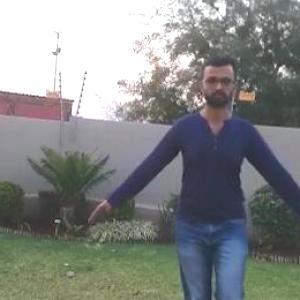land: (123, 77, 299, 299)
